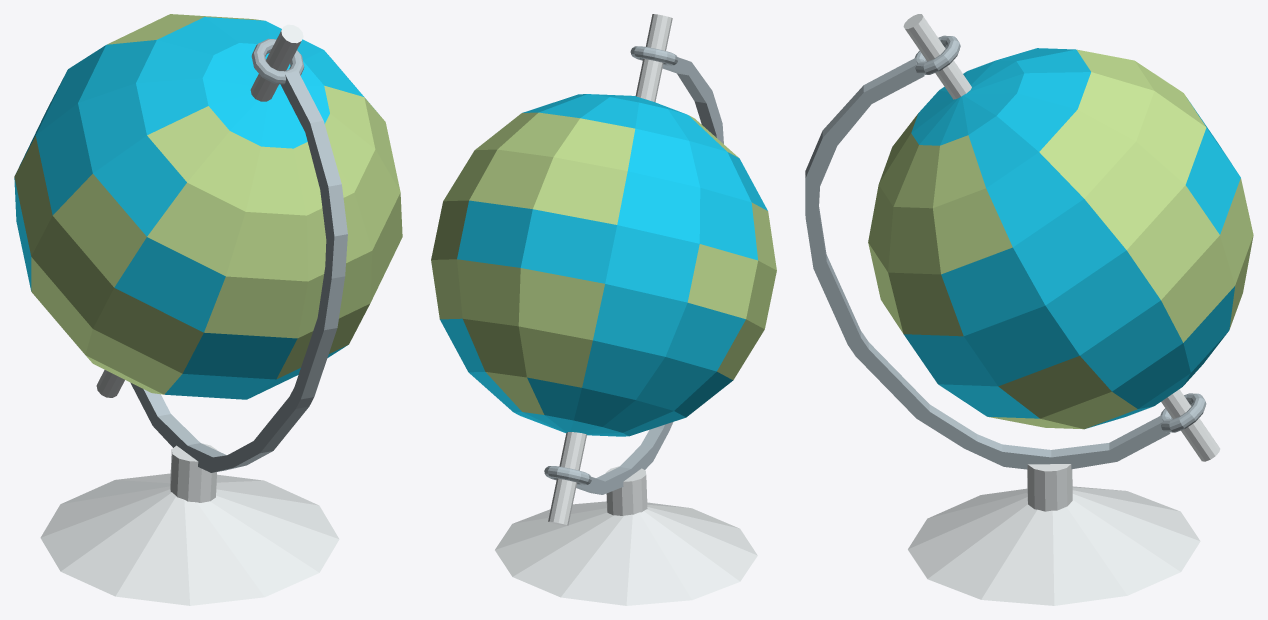
File: globe.glb
3 renders of one model, left to right at view 1: azimuth 30°, elevation 25°; view 2: azimuth 150°, elevation 25°; view 3: azimuth 270°, elevation 25°, orthographic. The views are drawn at different scales.
Parts seen in each view (by area): view 1: group919713925, group11486380, group720275718, group1995689966, group209908032, group1846285111, group323321704; view 2: group919713925, group11486380, group209908032, group1995689966, group720275718, group1846285111, group323321704, group920377930; view 3: group919713925, group11486380, group1995689966, group720275718, group209908032, group1846285111, group920377930, group323321704.
Part boxes in pixels (left/top/right/bottom): group919713925: left=14, top=14, right=402, bottom=399; group11486380: left=40, top=473, right=339, bottom=605; group720275718: left=280, top=71, right=347, bottom=399; group1995689966: left=130, top=382, right=313, bottom=472; group209908032: left=96, top=24, right=303, bottom=397; group1846285111: left=170, top=443, right=217, bottom=502; group323321704: left=251, top=38, right=304, bottom=84; group919713925: left=431, top=94, right=776, bottom=436; group11486380: left=495, top=501, right=757, bottom=605; group209908032: left=548, top=14, right=672, bottom=525; group1995689966: left=576, top=422, right=673, bottom=494; group720275718: left=662, top=57, right=723, bottom=143; group1846285111: left=606, top=466, right=647, bottom=515; group323321704: left=630, top=46, right=677, bottom=65; group920377930: left=544, top=466, right=591, bottom=485; group919713925: left=868, top=48, right=1253, bottom=429; group11486380: left=908, top=486, right=1200, bottom=605; group1995689966: left=848, top=330, right=1170, bottom=469; group720275718: left=805, top=57, right=924, bottom=344; group209908032: left=903, top=14, right=1220, bottom=461; group1846285111: left=1027, top=464, right=1072, bottom=511; group920377930: left=1160, top=393, right=1206, bottom=432; group323321704: left=915, top=35, right=960, bottom=74.
Size of the model in its own units: 0.4968 by 0.7842 by 0.5812.
